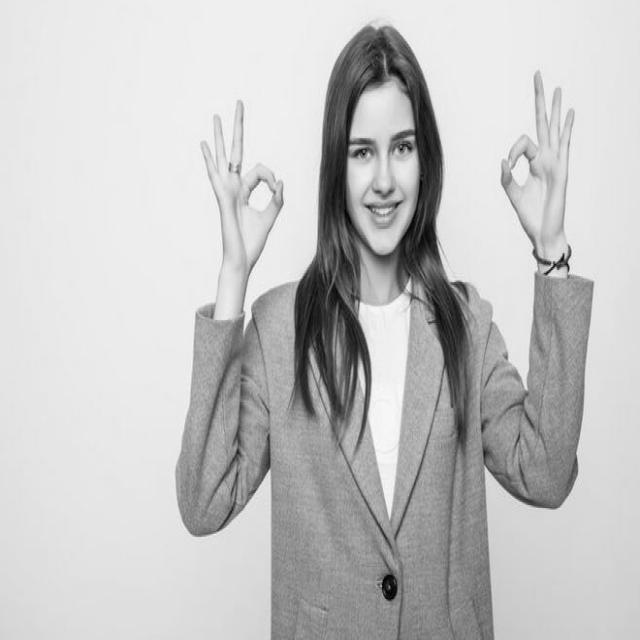perfect: (195, 93, 288, 279), (495, 63, 579, 253)
